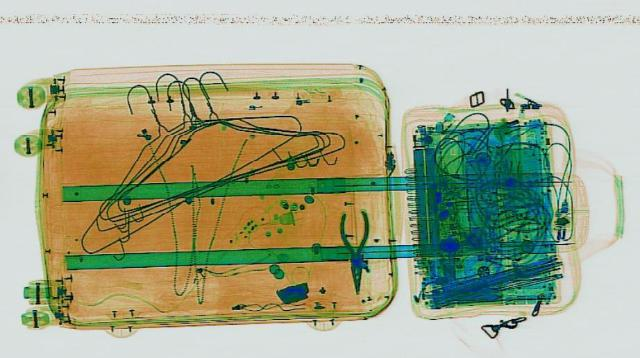Pliers: (336, 208, 374, 293)
